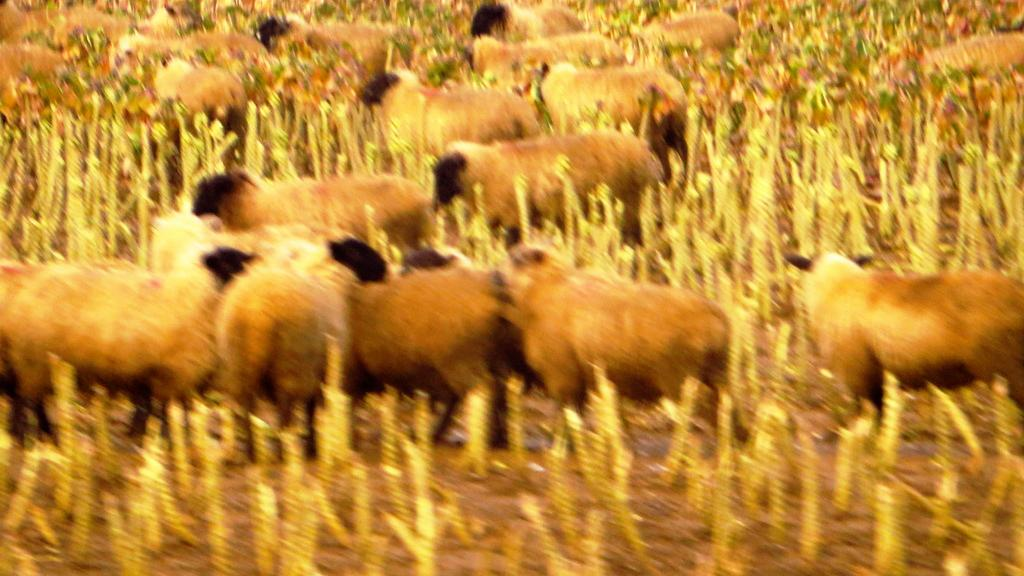Sheep: (763, 239, 1024, 445), (16, 236, 254, 414), (428, 133, 658, 244), (183, 169, 426, 260), (529, 51, 692, 181), (355, 65, 539, 161), (466, 0, 588, 70)
